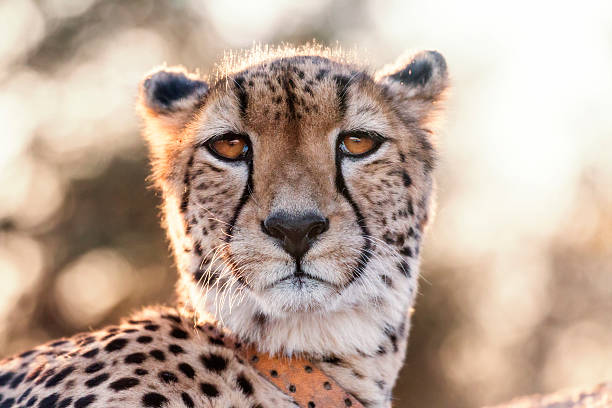cheetah: (92, 26, 474, 372)
